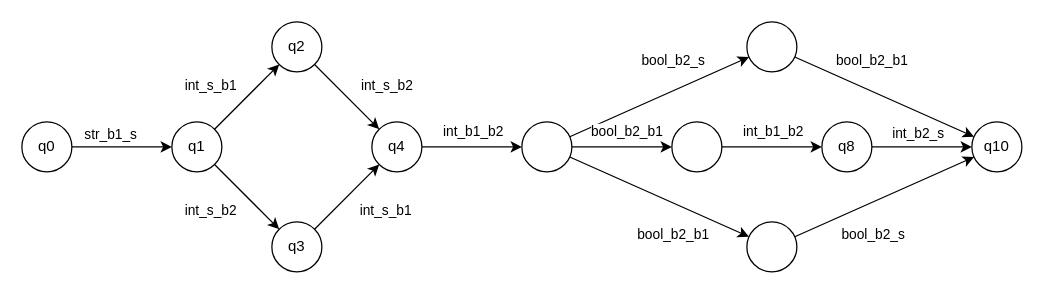
Some shapes in this 1044 by 294 pixel diagram are drawn without their labels. Here are the shapes that lost their labels. From the top down, the centre of each, then its label:
At (771,46): "q6".
At (546,146): "q5".
At (696,146): "q7".
At (771,246): "q9".
